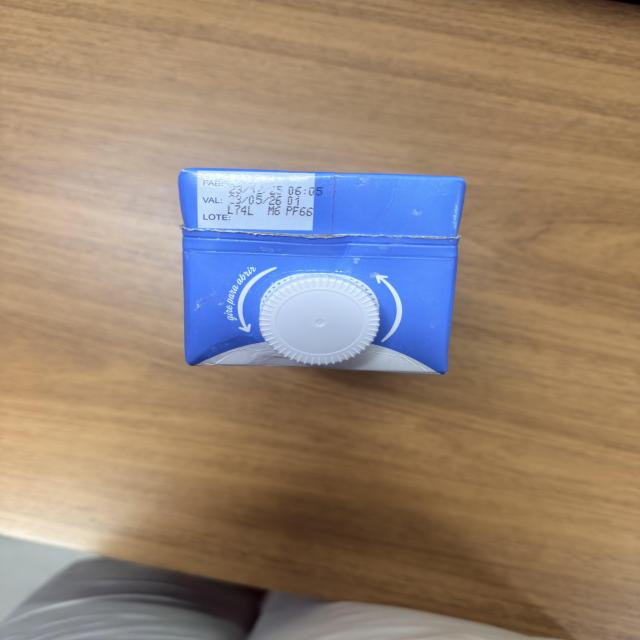Caixa de Leite: (175, 168, 468, 376)
